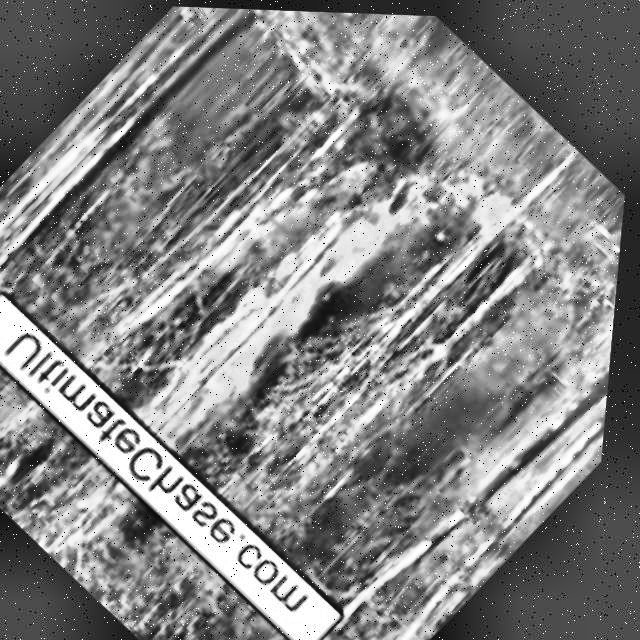Fire: (140, 185, 403, 462), (340, 95, 548, 288), (35, 459, 150, 574)
